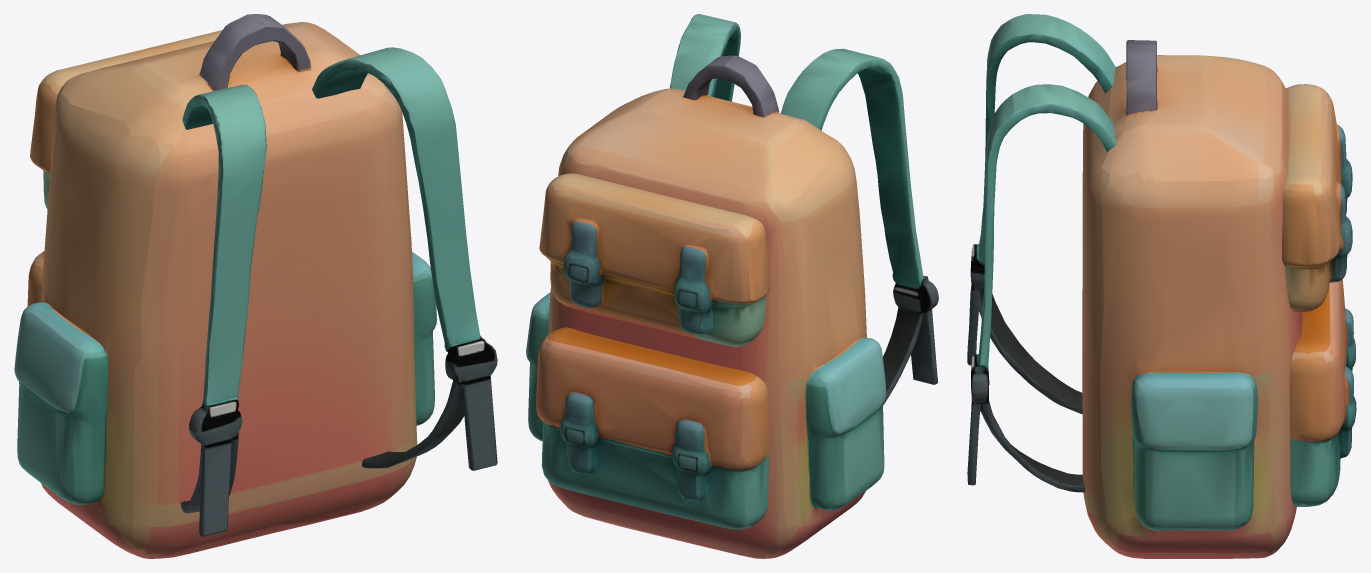
File: Prop_Backpack_AI.glb
The picture shows the model from 3 angles, left to right: view 1: azimuth 30°, elevation 25°; view 2: azimuth 150°, elevation 25°; view 3: azimuth 270°, elevation 25°; orthographic projection. The views are drawn at different scales.
Visible parts, largest first — view 1: Prop_Backpack_AI; view 2: Prop_Backpack_AI; view 3: Prop_Backpack_AI.
Boxes of the visible parts, bbox=[...] form: Prop_Backpack_AI: bbox=[14, 14, 497, 558]; Prop_Backpack_AI: bbox=[526, 14, 938, 558]; Prop_Backpack_AI: bbox=[967, 14, 1356, 558].
Size of the model in its own units: 0.3464 by 0.45 by 0.3391.
Materials: 3 (3 with a texture image).
